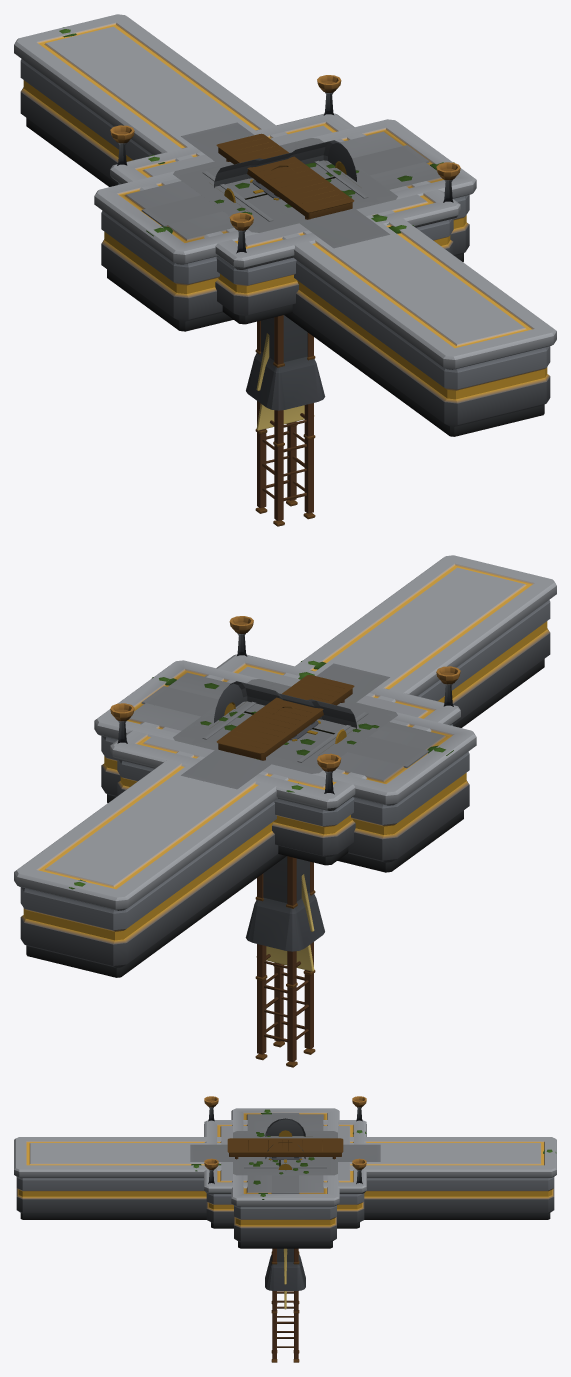
The model's file is temple-1-Bvv4t5YS.glb.
3 views of the same model, one above another, from view 1: azimuth 30°, elevation 25°; view 2: azimuth 150°, elevation 25°; view 3: azimuth 270°, elevation 25° (orthographic). The views are drawn at different scales.
Visible parts, largest first — view 1: block_6x2x40#0, block_16x2x8#0, pad_12x2x12#0, truss_16#0, burner_2x1.2x8#0, support_0_square#0, beam_3x2x14#0, block_8x2x8#0, beam_14x1.5x2#0, boulder_6x3#0, block_8x2x7#0, block_6x2x8#0 (+1 smaller); view 2: block_6x2x40#0, block_16x2x8#0, pad_12x2x12#0, truss_16#0, burner_2x1.2x8#0, support_0_square#0, beam_3x2x14#0, block_8x2x8#0, beam_14x1.5x2#0, boulder_6x3#0, block_8x2x7#0, block_6x2x8#0 (+1 smaller); view 3: block_6x2x40#0, block_16x2x8#0, pad_12x2x12#0, burner_2x1.2x8#0, support_0_square#0, beam_3x2x14#0, truss_16#0, block_8x2x8#0, block_8x2x7#0, beam_14x1.5x2#0, boulder_6x3#0, block_6x2x8#0 (+1 smaller).
Part boxes in pixels (x1,y1,x2,y2): block_6x2x40#0: (14,14,556,436); block_16x2x8#0: (94,119,476,331); pad_12x2x12#0: (110,75,460,324); truss_16#0: (255,196,315,526); burner_2x1.2x8#0: (216,133,354,219); support_0_square#0: (246,179,325,410); beam_3x2x14#0: (181,122,389,248); block_8x2x8#0: (173,138,397,232); beam_14x1.5x2#0: (141,145,429,226); boulder_6x3#0: (214,140,356,202); block_8x2x7#0: (178,142,392,228); block_6x2x8#0: (192,143,378,223); block_6x2x40#0: (14,555,556,977); block_16x2x8#0: (94,660,476,872); pad_12x2x12#0: (110,616,460,865); truss_16#0: (255,737,315,1067); burner_2x1.2x8#0: (216,674,354,760); support_0_square#0: (245,720,324,951); beam_3x2x14#0: (181,663,389,789); block_8x2x8#0: (173,679,397,773); beam_14x1.5x2#0: (141,686,429,768); boulder_6x3#0: (214,681,356,743); block_8x2x7#0: (178,683,392,769); block_6x2x8#0: (192,683,378,766); block_6x2x40#0: (14,1137,556,1219); block_16x2x8#0: (231,1108,339,1248); pad_12x2x12#0: (204,1096,366,1228); burner_2x1.2x8#0: (227,1138,343,1159); support_0_square#0: (265,1157,305,1290); beam_3x2x14#0: (190,1144,380,1161); truss_16#0: (271,1157,299,1362); block_8x2x8#0: (233,1131,337,1175); block_8x2x7#0: (240,1131,330,1175); beam_14x1.5x2#0: (271,1113,299,1193); boulder_6x3#0: (265,1118,305,1169); block_6x2x8#0: (234,1137,336,1169).
Bounding box in the file's own units: 16 × 18.42 × 40.
